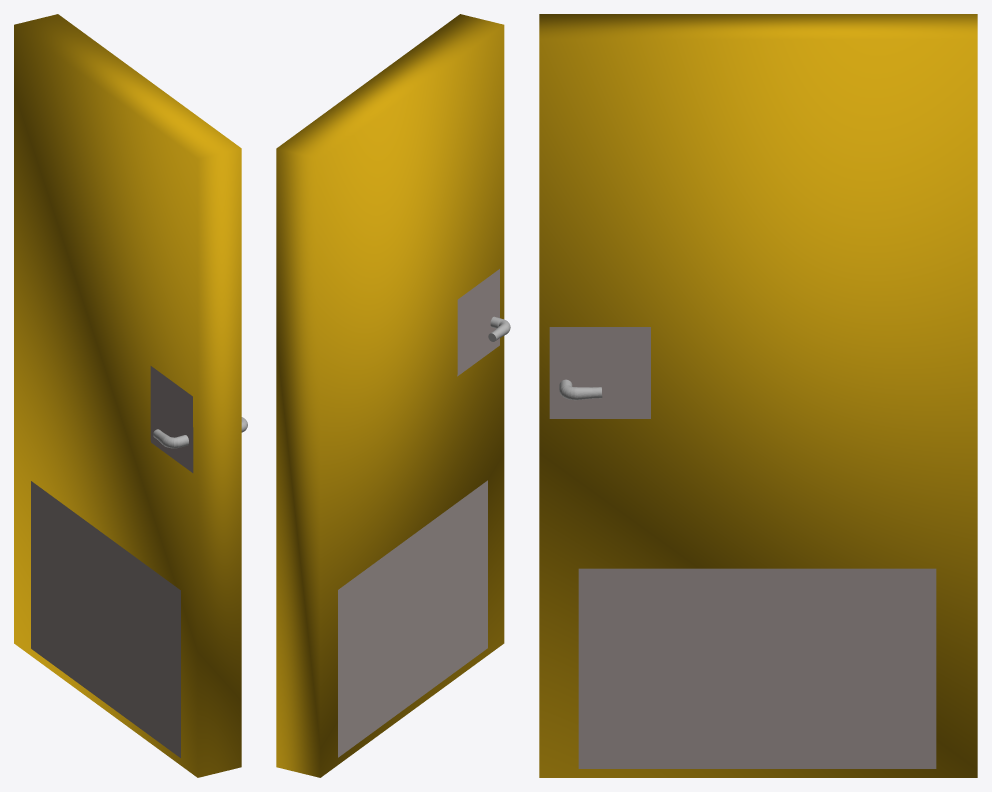
The model's file is Door.fbx.
3 renders of one model, left to right at view 1: azimuth 30°, elevation 25°; view 2: azimuth 150°, elevation 25°; view 3: azimuth 270°, elevation 25°, orthographic. The views are drawn at different scales.
Parts seen in each view (by area): view 1: Plane.002; view 2: Plane.002; view 3: Plane.002.
Part boxes in pixels (x1,y1,x2,y2): Plane.002: [14, 14, 247, 777]; Plane.002: [276, 14, 510, 777]; Plane.002: [539, 14, 977, 777].
Size of the model in its own units: 50.35 by 356 by 192.
